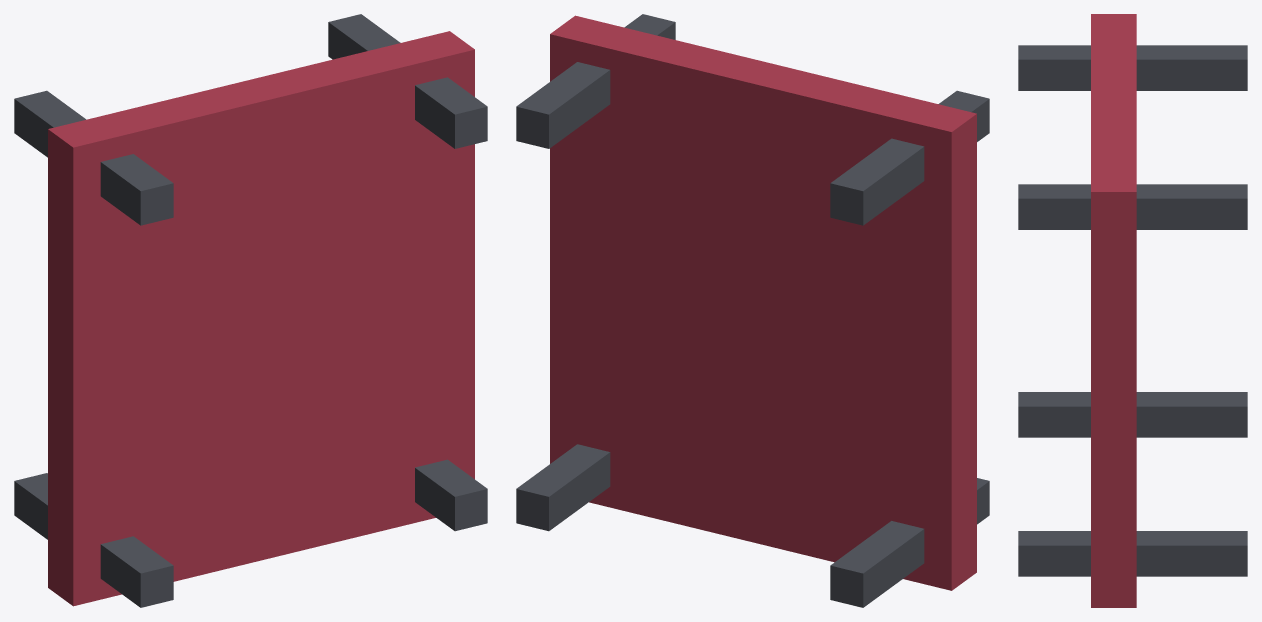
Rendered from desk_v01.glb.
The picture shows the model from 3 angles, left to right: view 1: azimuth 30°, elevation 25°; view 2: azimuth 150°, elevation 25°; view 3: azimuth 270°, elevation 25°; orthographic projection. The views are drawn at different scales.
Parts seen in each view (by area): view 1: box_0, box_2, box_4, box_1, box_3; view 2: box_0, box_2, box_4, box_1, box_3; view 3: box_0, box_1, box_2, box_3, box_4.
Part boxes in pixels (x1,y1,x2,y2): box_0: (48, 31, 474, 606); box_2: (14, 90, 173, 225); box_4: (328, 14, 487, 148); box_1: (14, 473, 173, 607); box_3: (415, 459, 487, 531); box_0: (550, 15, 976, 590); box_2: (830, 90, 989, 225); box_4: (516, 14, 675, 148); box_1: (830, 478, 989, 607); box_3: (516, 444, 610, 531); box_0: (1091, 14, 1136, 607); box_1: (1018, 392, 1247, 437); box_2: (1018, 45, 1247, 90); box_3: (1018, 531, 1247, 576); box_4: (1018, 184, 1247, 229).
Size of the model in its own units: 1.1 by 1.2 by 0.6.
